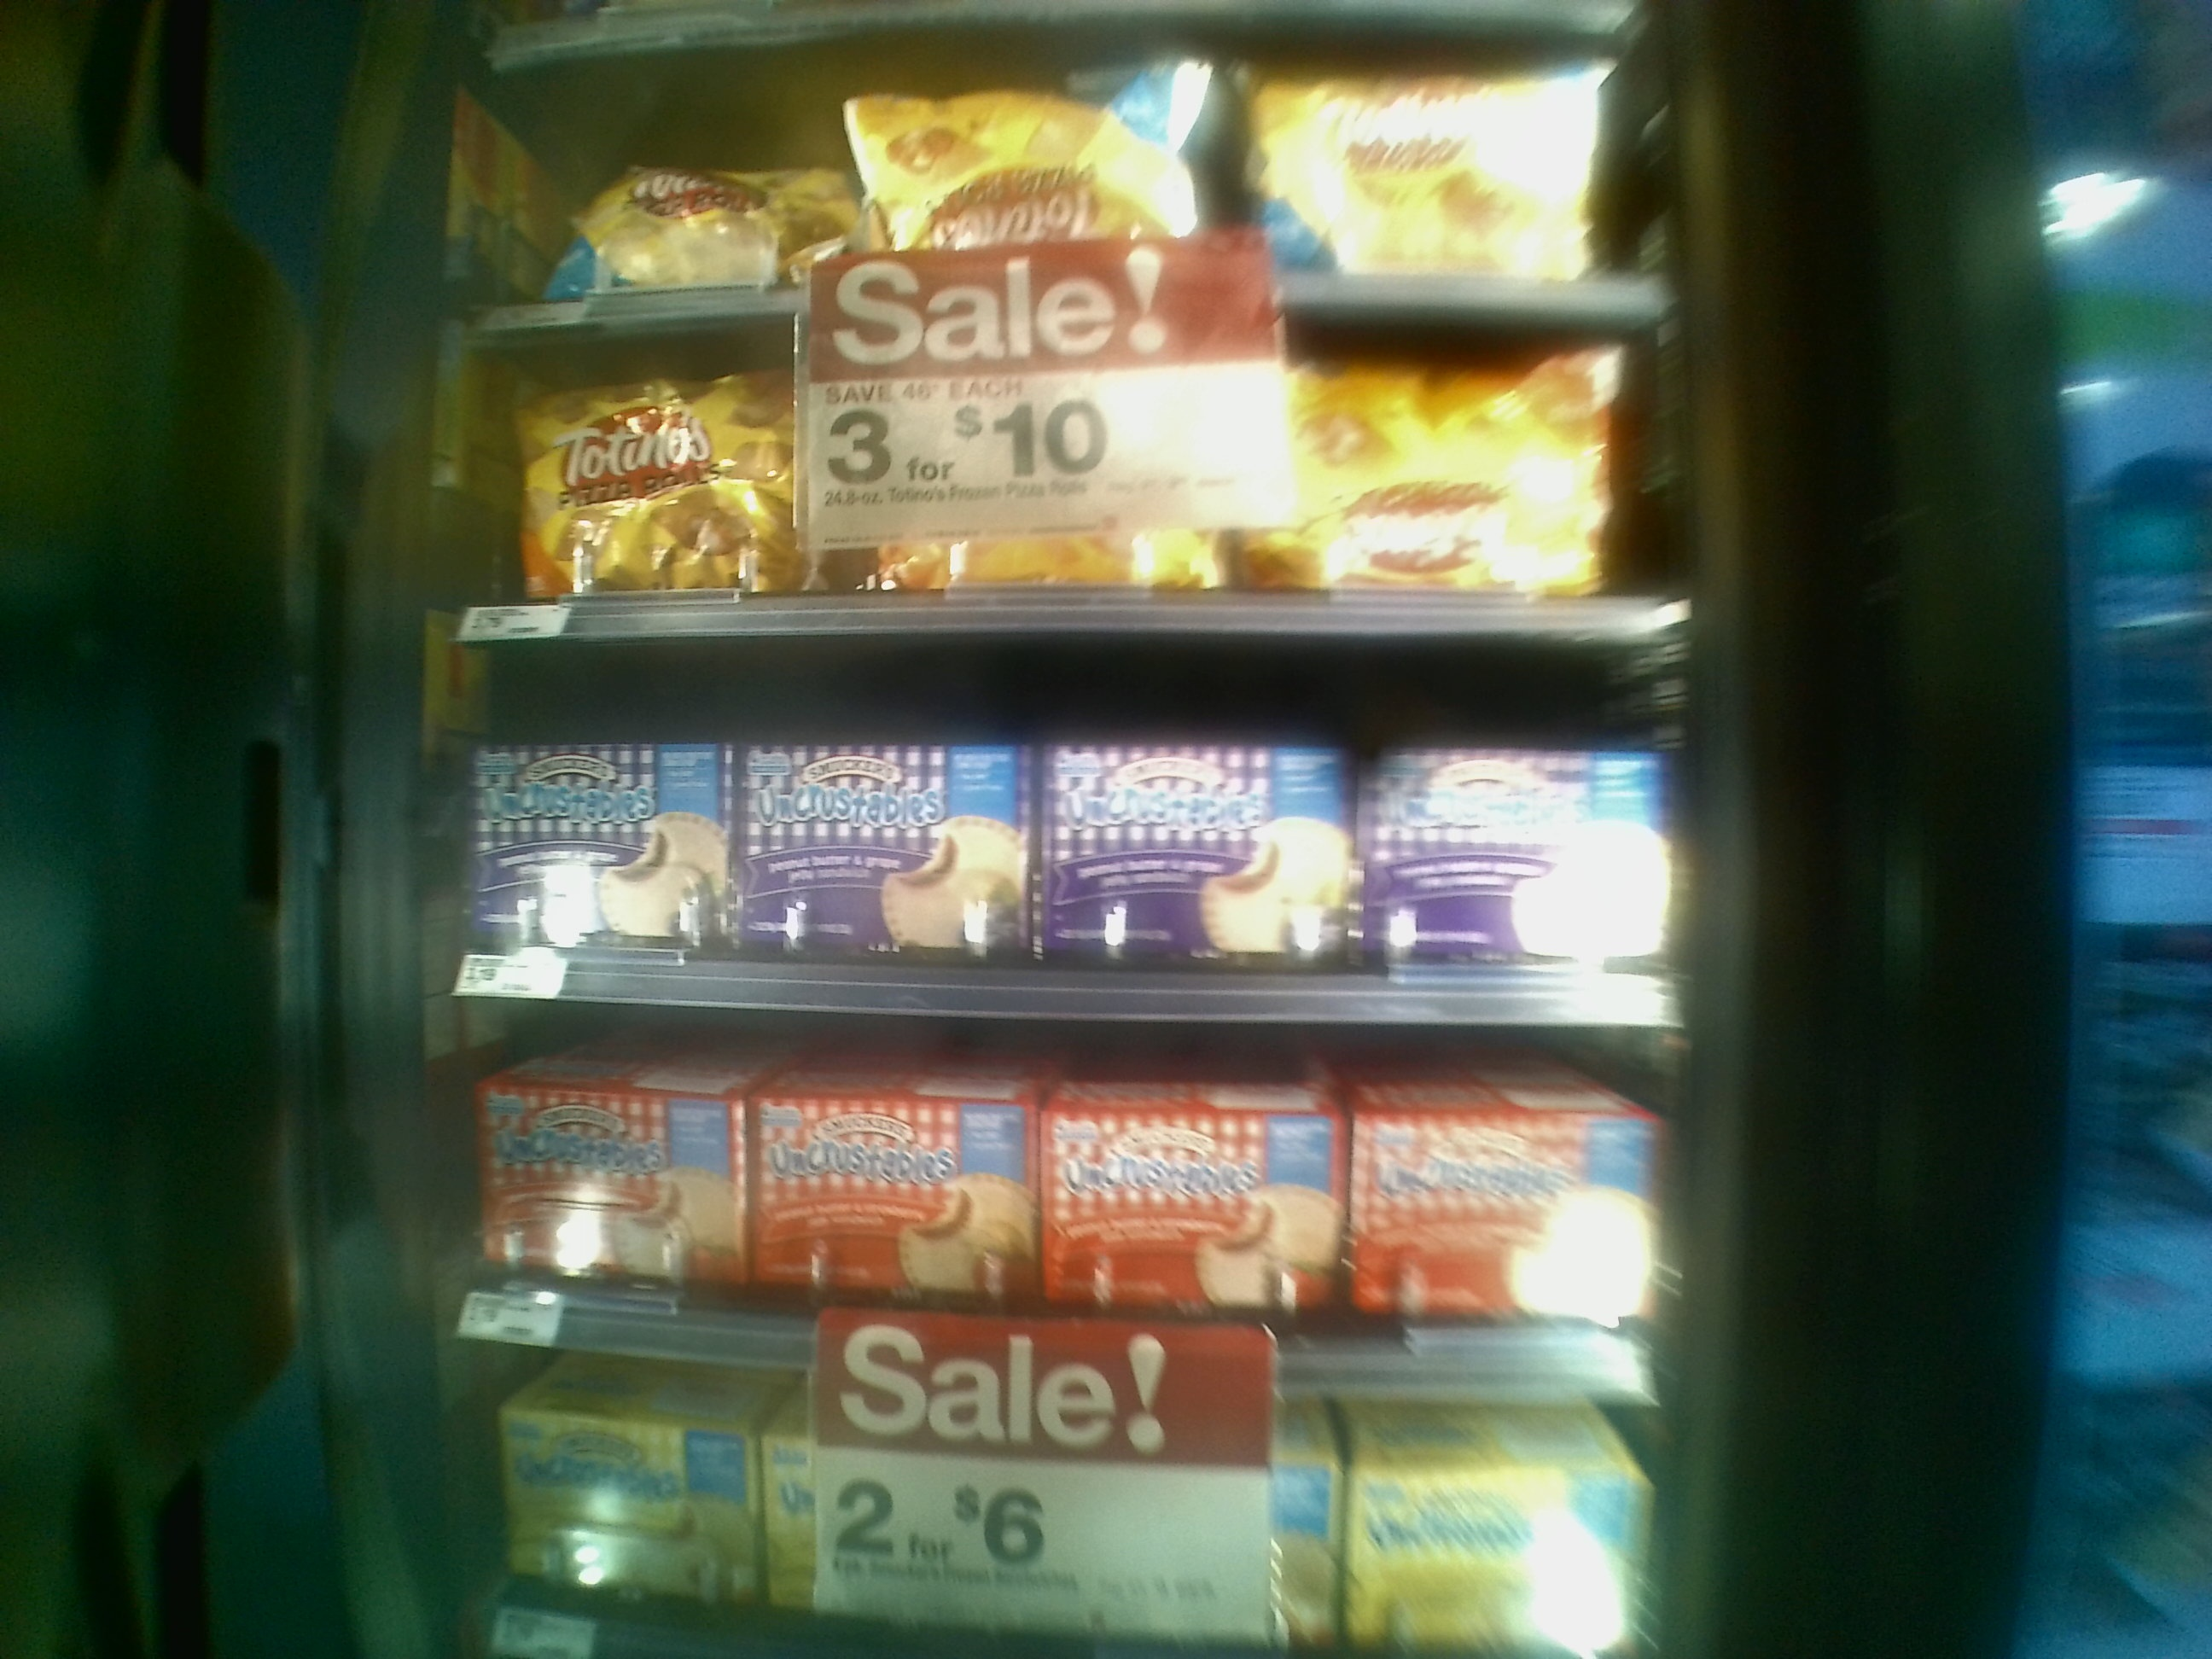shelf: (455, 652, 1689, 1039), (451, 1035, 1684, 1410), (456, 338, 1693, 657), (467, 54, 1663, 331)
